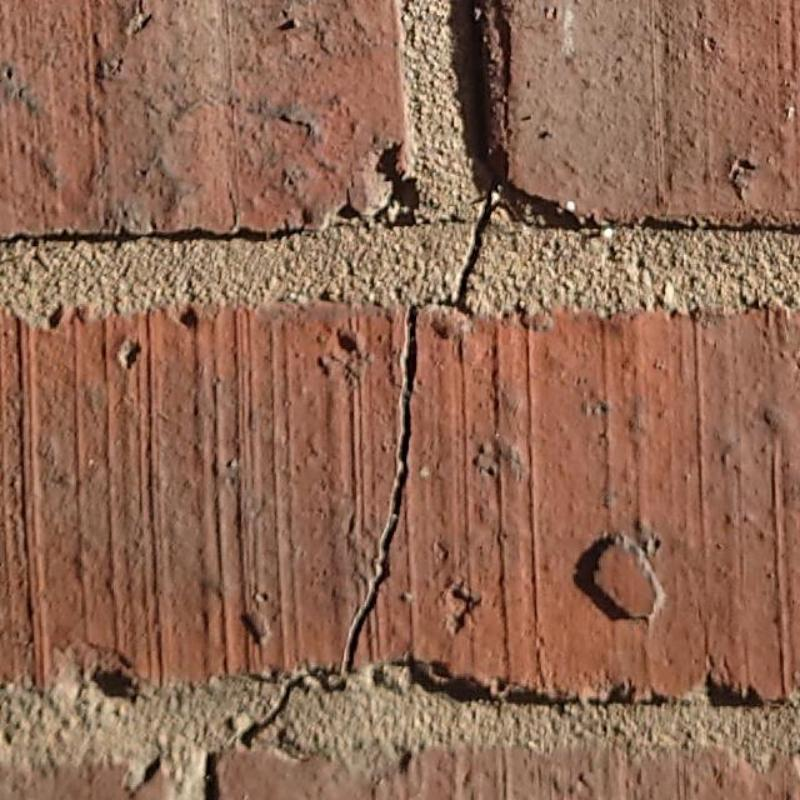pothole: (346, 305, 418, 675), (438, 190, 504, 319), (238, 674, 311, 750), (310, 667, 347, 694)
